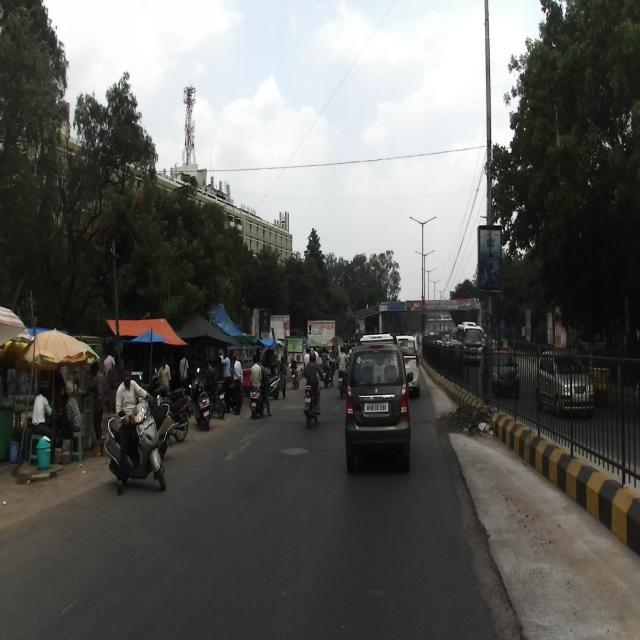car: (344, 332, 413, 474)
scooter: (104, 390, 167, 491)
